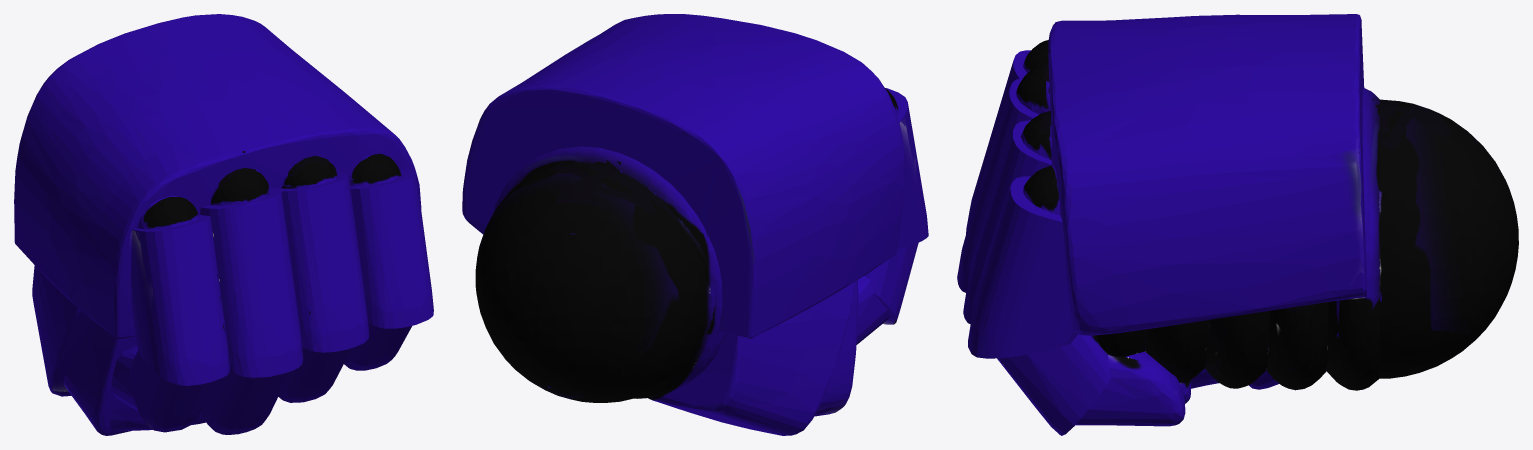
The model's file is Lfist.obj.
3 renders of one model, left to right at view 1: azimuth 30°, elevation 25°; view 2: azimuth 150°, elevation 25°; view 3: azimuth 270°, elevation 25°, orthographic. The views are drawn at different scales.
Visible parts, largest first — view 1: t_hand_-__1; view 2: t_hand_-__1; view 3: t_hand_-__1.
Part boxes in pixels (x1,y1,x2,y2): t_hand_-__1: (14,14,433,435); t_hand_-__1: (462,14,928,435); t_hand_-__1: (957,14,1518,435).
Bounding box in the file's own units: 0.9532 × 0.9733 × 1.27.
1 material, 1 textured.
